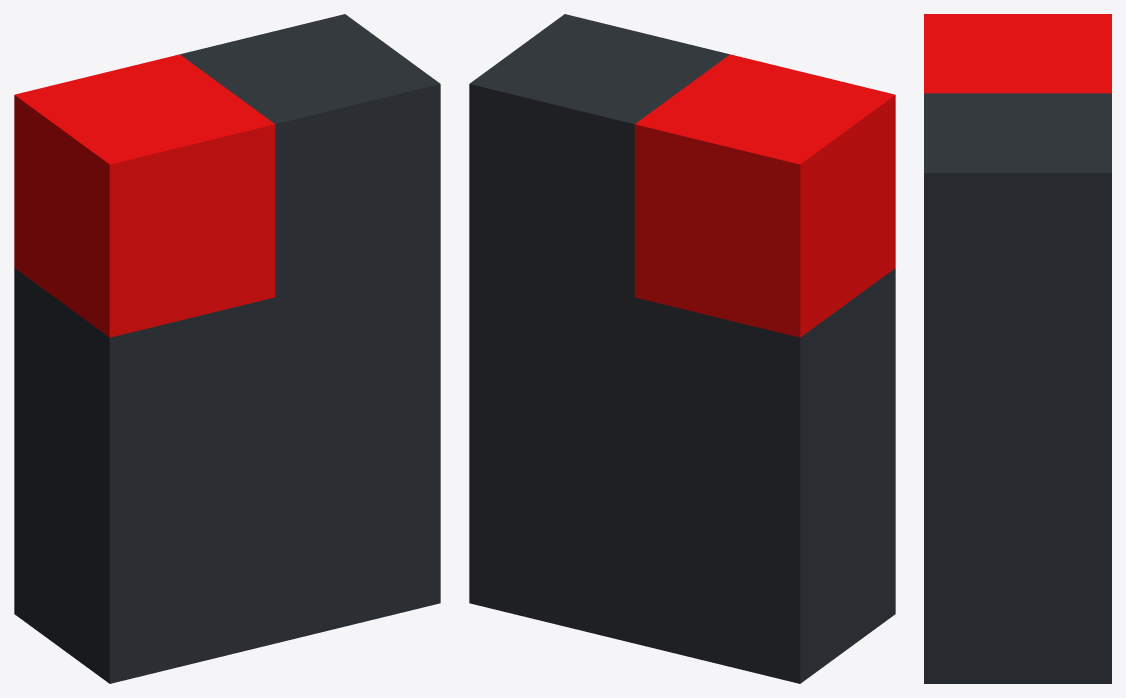
The model's file is Electronics-4.fbx.
3 renders of one model, left to right at view 1: azimuth 30°, elevation 25°; view 2: azimuth 150°, elevation 25°; view 3: azimuth 270°, elevation 25°, orthographic.
Visible parts, largest first — view 1: Electronics_4; view 2: Electronics_4; view 3: Electronics_4.
Boxes of the visible parts, x1,y1,x2,y2 form: Electronics_4: (14,14,440,683); Electronics_4: (469,14,895,683); Electronics_4: (924,14,1111,683).
Size of the model in its own units: 20 by 30 by 10.
Materials: 2 (2 with a texture image).
